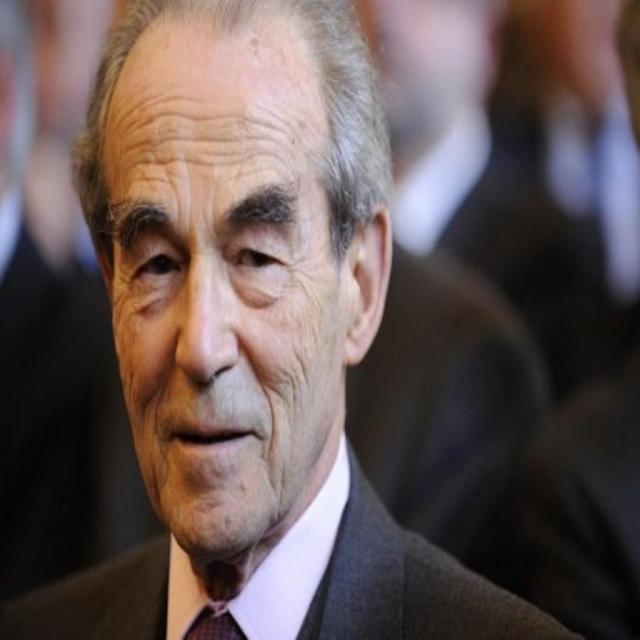Face: (108, 35, 322, 539)
